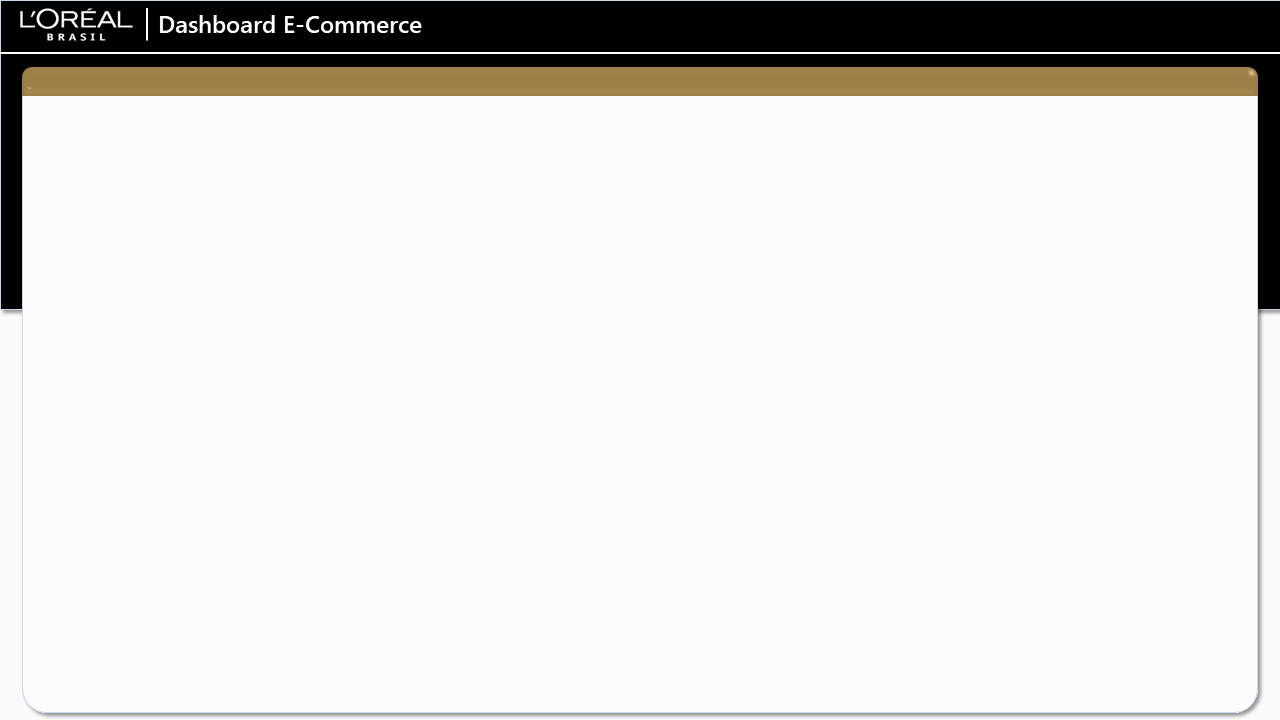

The page's visual inventory and layout, read from the dashboard file:
{"tool":"powerbi","page":{"name":"Inicio","canvas":[1280,720],"ordinal":0},"visuals":[{"type":"shape","box":[479.1,448.4,124.8,68.6],"z":0},{"type":"shape","box":[650.5,448.4,124.8,68.6],"z":1000}]}

Visuals, with their boxes on the page's 1280x720 design canvas (x1, y1, x2, y2). These are canvas units, not pixel positions in the 1280x720 screenshot, which may show the page scaled, cropped or inside an application window:
shape: region(479, 448, 604, 517)
shape: region(650, 448, 775, 517)
